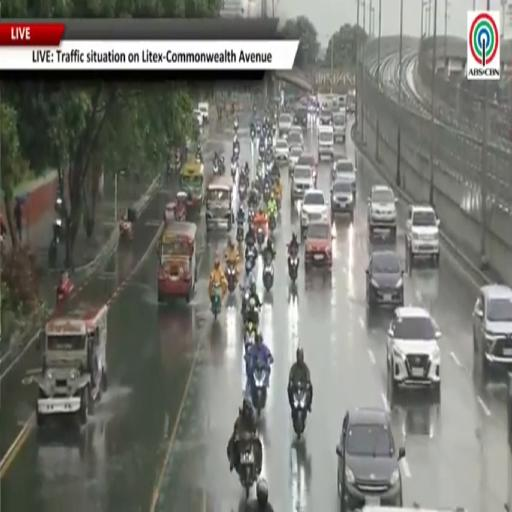car: (336, 408, 405, 511), (387, 307, 441, 399), (473, 284, 511, 380), (366, 250, 404, 308), (406, 205, 440, 266), (367, 185, 396, 239), (300, 188, 329, 238), (305, 221, 332, 270), (331, 156, 356, 199), (331, 180, 354, 221), (291, 164, 313, 200), (297, 153, 317, 182), (318, 125, 334, 161), (333, 109, 345, 141), (274, 139, 290, 163), (278, 112, 292, 137), (297, 153, 316, 171), (294, 104, 308, 127), (288, 128, 303, 148), (289, 147, 302, 169), (319, 106, 332, 125), (198, 102, 209, 123), (192, 109, 203, 127), (291, 124, 303, 137), (339, 95, 346, 110)
jeepney: (35, 304, 107, 425), (158, 221, 197, 302), (206, 176, 233, 231), (180, 158, 205, 215)
motorcycle: (237, 437, 258, 499), (251, 362, 268, 415), (292, 382, 308, 438), (56, 278, 74, 305), (263, 255, 273, 292), (211, 283, 221, 319), (288, 251, 299, 283), (241, 288, 250, 323), (48, 237, 58, 268), (119, 219, 133, 241), (245, 323, 256, 351), (227, 263, 236, 293), (245, 251, 255, 276), (256, 226, 265, 251), (236, 222, 244, 244), (263, 182, 271, 203), (239, 180, 247, 201), (231, 162, 238, 181), (269, 214, 276, 232), (258, 145, 266, 160), (212, 162, 220, 176), (248, 207, 254, 225), (233, 144, 239, 158), (219, 162, 225, 175), (251, 127, 255, 141), (234, 120, 238, 134)
